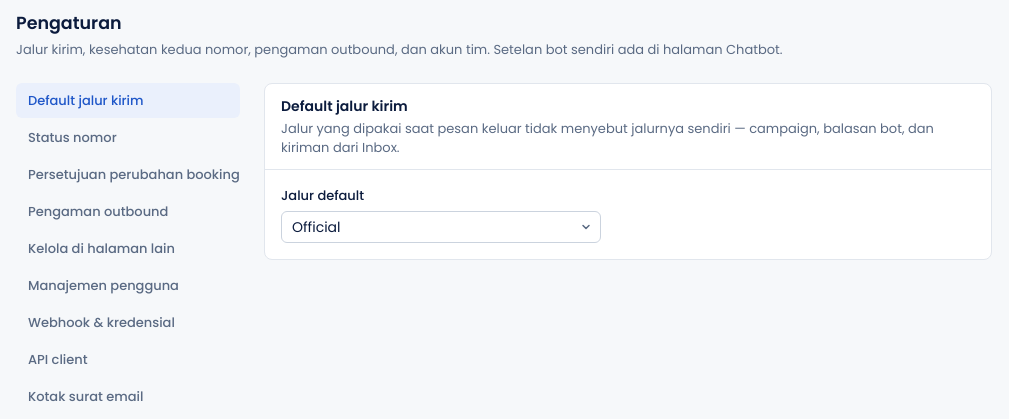
Test: SettingsPage — Status nomor › shows the Unofficial badge as unconfigured when the coexist fields are empty
Click the button "Status nomor" at [128, 138], box [16, 120, 240, 155]
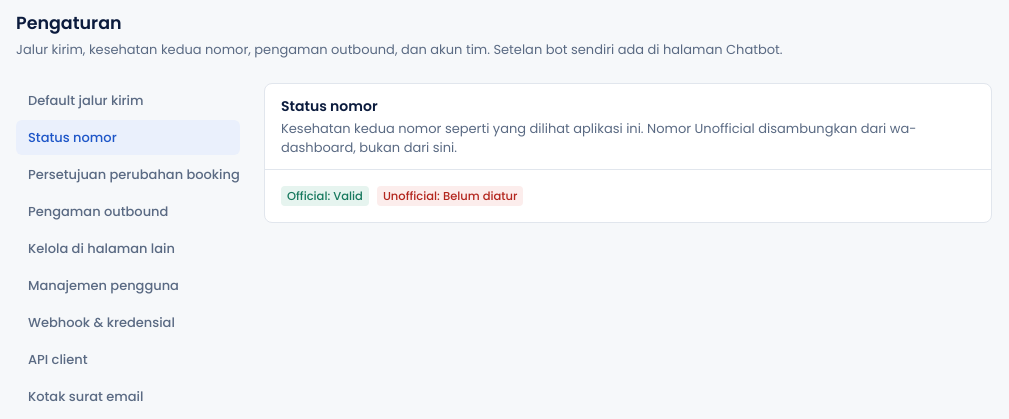
Expected: the text "Unofficial: Belum diatur" is shown, [377, 186, 524, 206]
